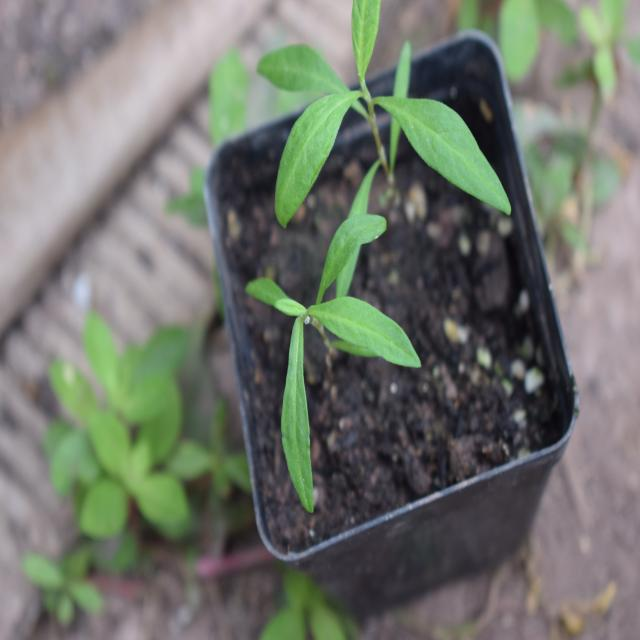white_smart_weed: (230, 172, 452, 477), (272, 0, 537, 243)
